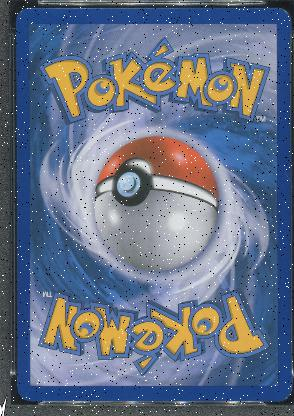Card: (12, 6, 292, 404)
Corner Wear: (275, 396, 287, 402), (19, 6, 30, 12), (279, 8, 288, 14)
Scratch: (282, 173, 290, 183)
